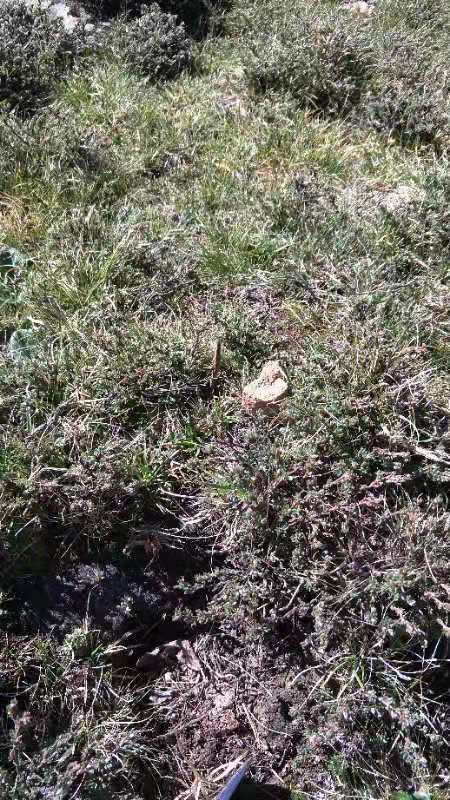cpf: (211, 339, 225, 383)
